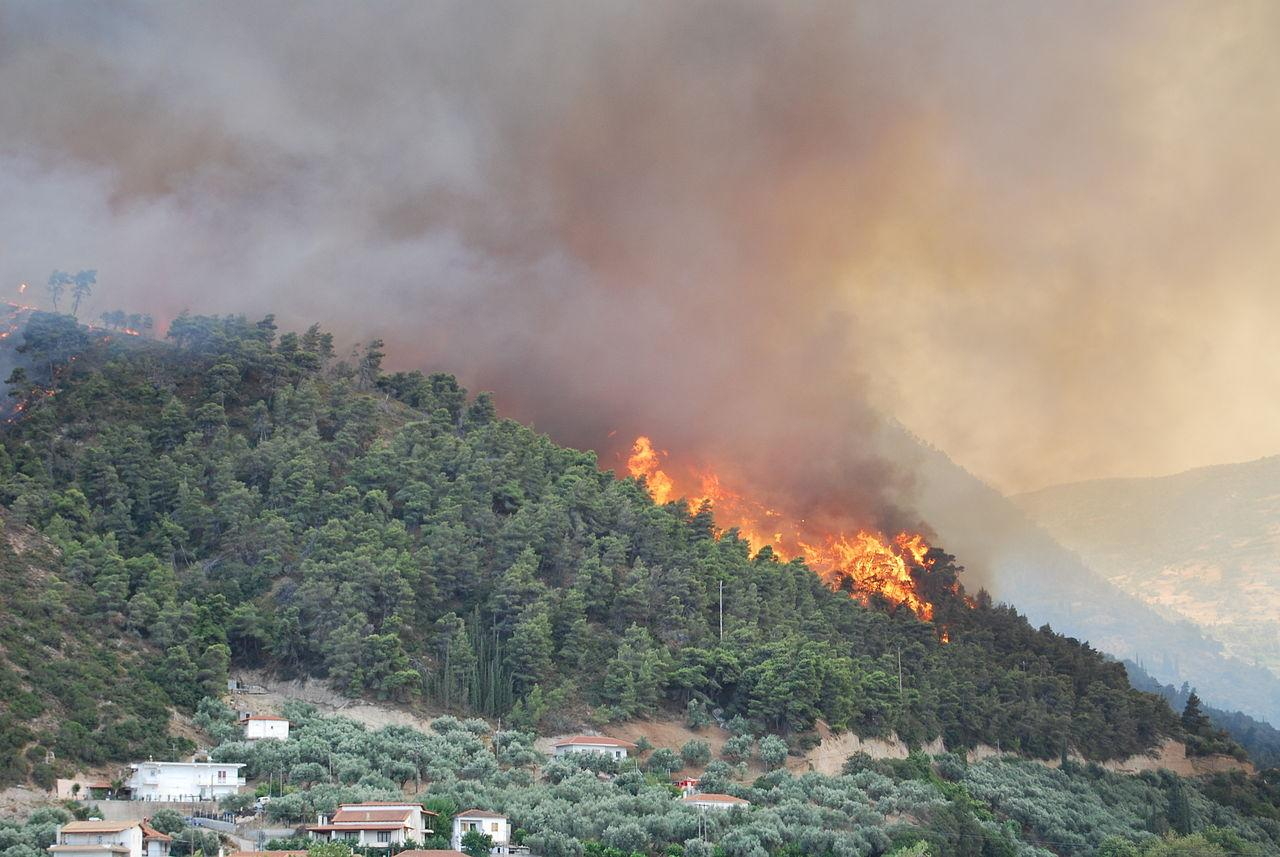fire: (606, 389, 981, 642)
